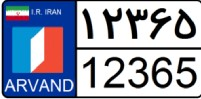character: (98, 4, 125, 43), (123, 4, 150, 43), (172, 4, 198, 44), (150, 53, 175, 94), (125, 53, 151, 92), (175, 54, 201, 91), (149, 4, 173, 43), (102, 52, 125, 92), (80, 52, 103, 90), (79, 4, 98, 43), (3, 76, 16, 97), (49, 75, 62, 96), (62, 76, 75, 97), (16, 76, 28, 98), (27, 76, 39, 97), (39, 76, 50, 95)
